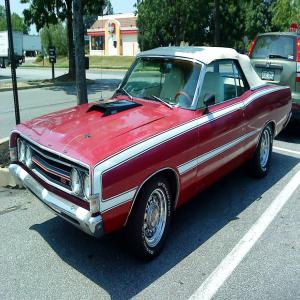Vehicle-registration-plate: (262, 67, 275, 83)
